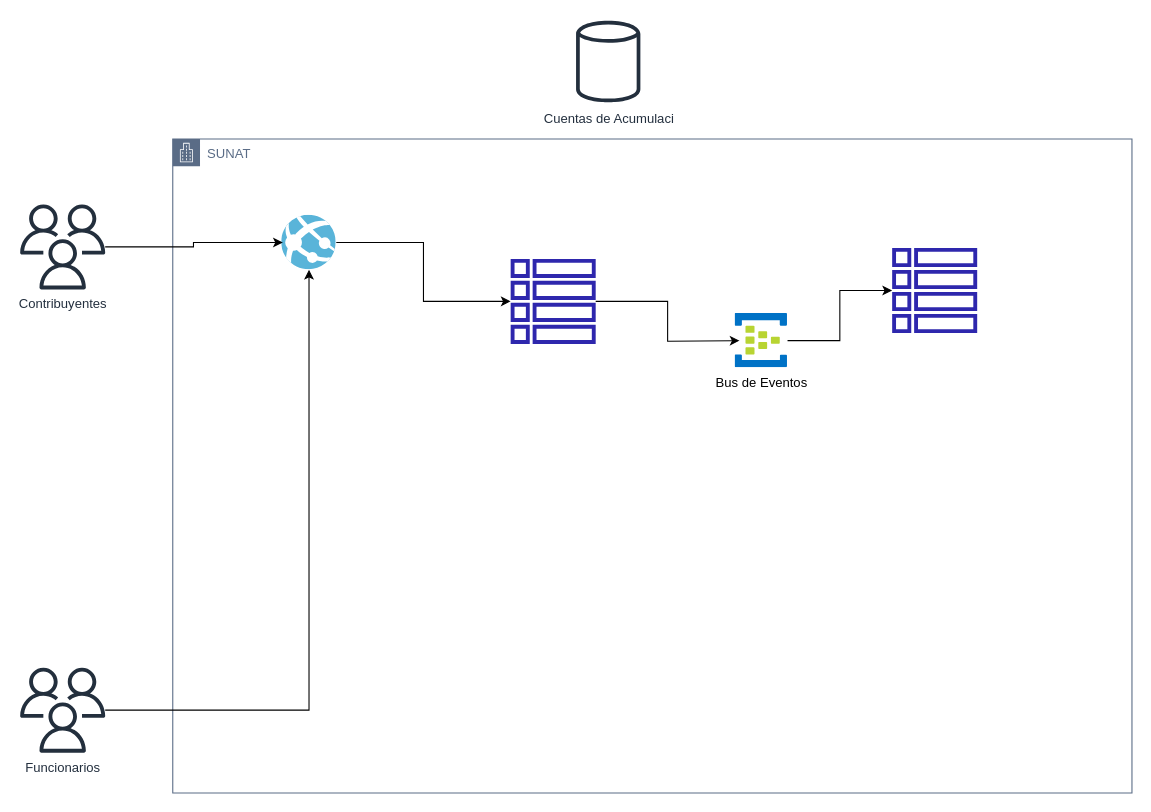
The diagram is 1151 pixels wide and 812 high, and some of its shapes have lost their labels. Here are the shapes that lost their labels. From the top down, the centre of each, then its label:
At point 308,242: "Consulta Cuentas Acumulacion".
At point 552,300: "Cuentas de Acumulación".
At point 934,289: "Cuentas de Control".
